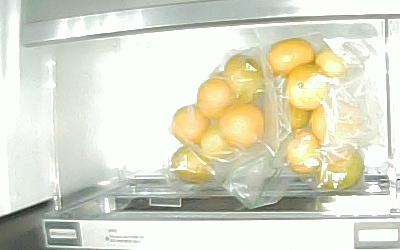tangerine_vinyl: (316, 144, 365, 193), (311, 101, 363, 146), (217, 102, 265, 149), (224, 56, 266, 103), (285, 64, 327, 110), (269, 38, 317, 76), (173, 145, 216, 185), (197, 76, 236, 120), (285, 131, 322, 177), (173, 104, 211, 145), (200, 124, 234, 159), (316, 51, 348, 80), (287, 103, 312, 131)
